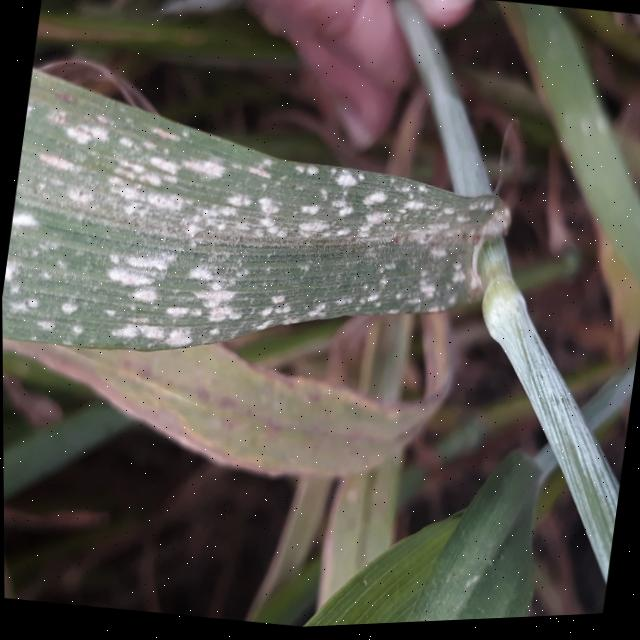powder_mildew: (0, 40, 568, 432)
